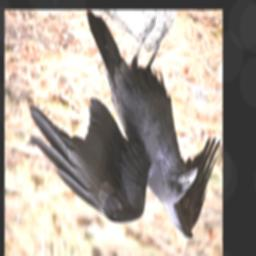Crow: (27, 13, 222, 241)
